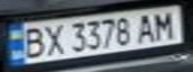3: (66, 19, 87, 53), (84, 18, 103, 51)
7: (100, 16, 118, 48)
8: (115, 14, 136, 47)
A: (133, 11, 160, 43)
B: (18, 24, 48, 60)
M: (148, 8, 181, 41)
X: (39, 21, 69, 56)
